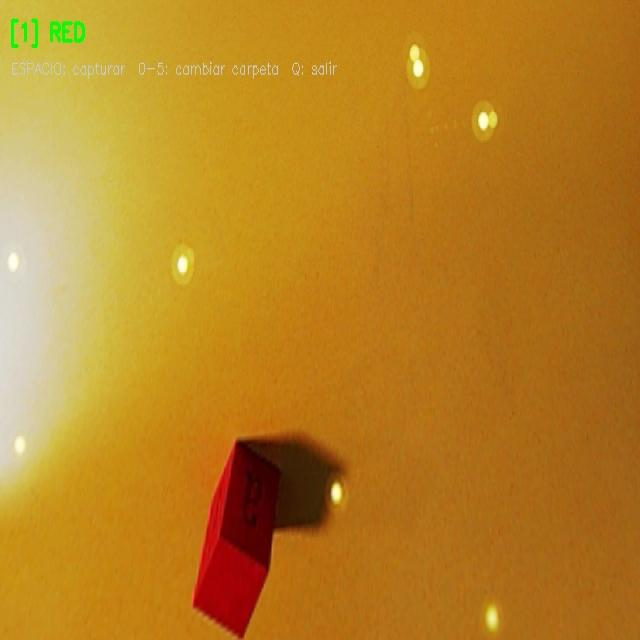red: (194, 441, 280, 637)
